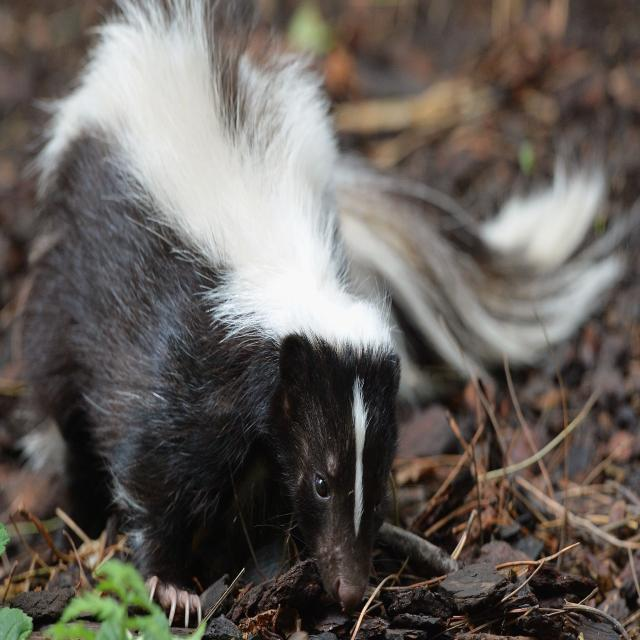Skunk: (0, 0, 408, 627)
